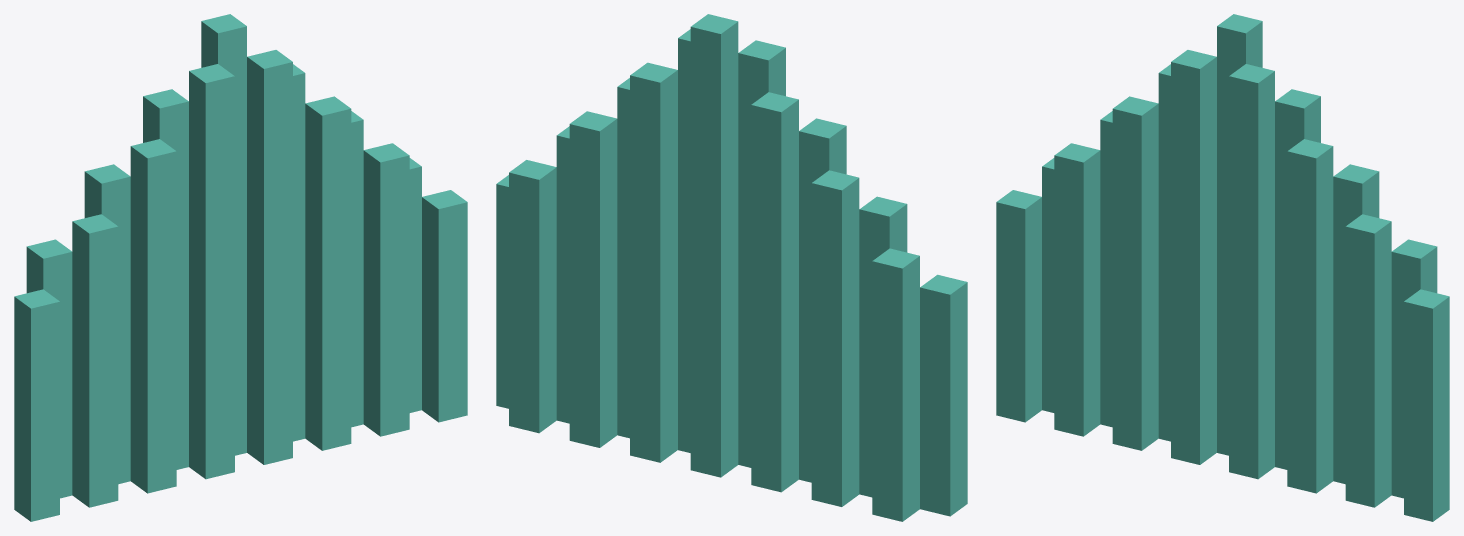
Rendered from alien-biosphere-folded-fan-26209b46__22703.glb.
3 renders of one model, left to right at view 1: azimuth 30°, elevation 25°; view 2: azimuth 150°, elevation 25°; view 3: azimuth 330°, elevation 25°, orthographic. The views are drawn at different scales.
Visible parts, largest first — view 1: folded-fan; view 2: folded-fan; view 3: folded-fan.
Part boxes in pixels (bbox=[...]): folded-fan: bbox=[14, 14, 467, 521]; folded-fan: bbox=[496, 14, 967, 521]; folded-fan: bbox=[996, 14, 1449, 521].
Size of the model in its own units: 1.8 by 1.68 by 0.2399.
